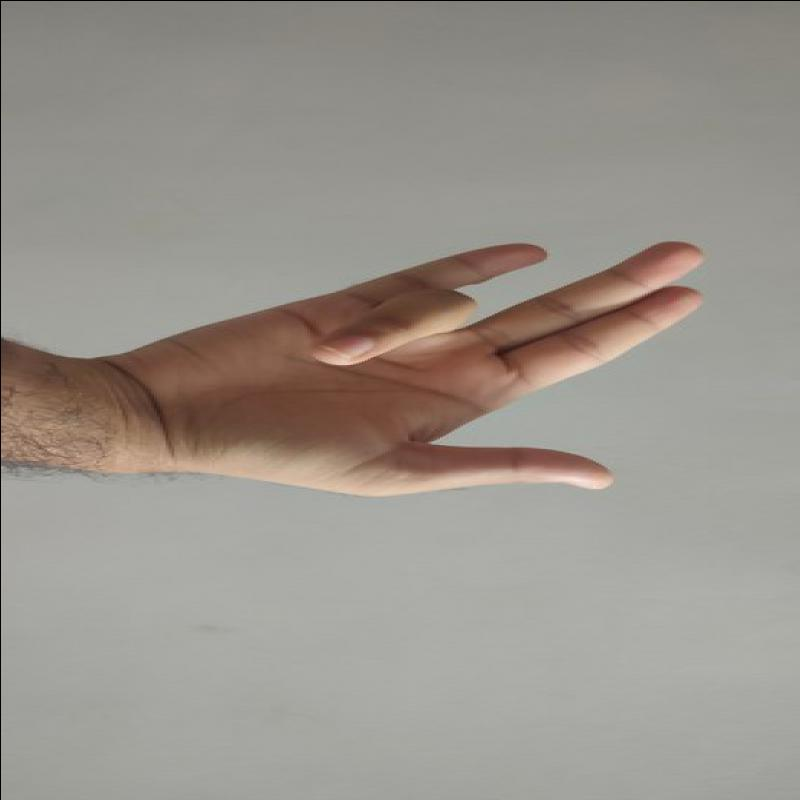Pathaaka: (104, 229, 717, 516)
